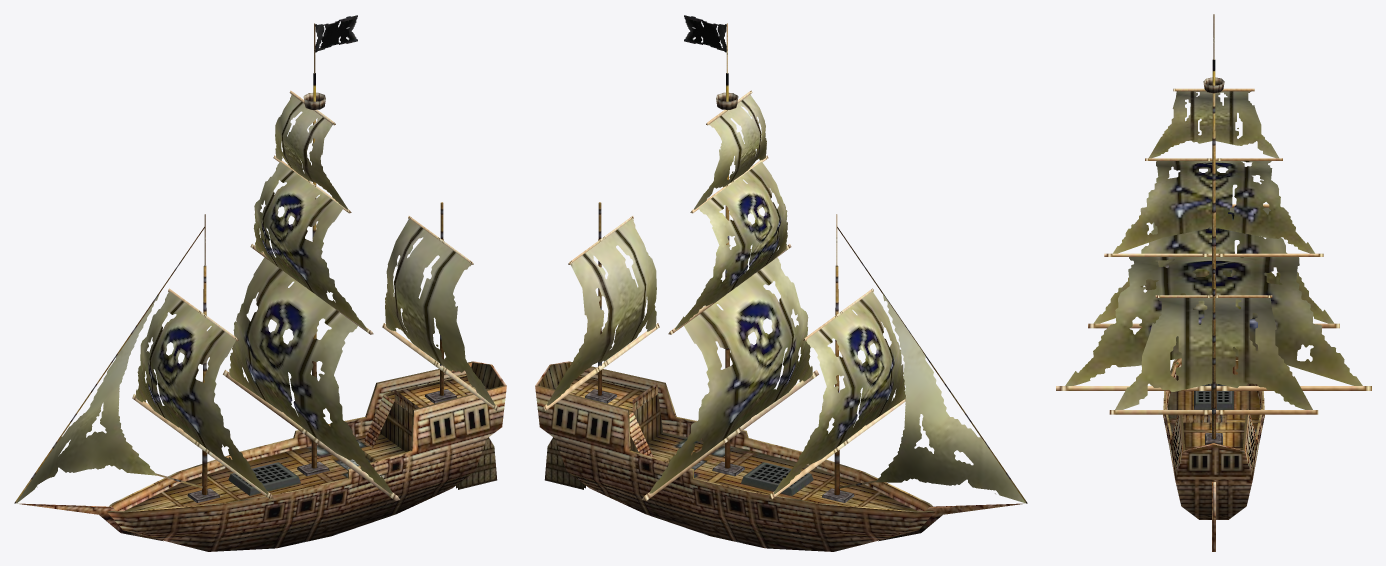
The model's file is boat.obj.
The picture shows the model from 3 angles, left to right: view 1: azimuth 30°, elevation 25°; view 2: azimuth 150°, elevation 25°; view 3: azimuth 270°, elevation 25°; orthographic projection. The views are drawn at different scales.
Visible parts, largest first — view 1: cadnav_com; view 2: cadnav_com; view 3: cadnav_com.
Part boxes in pixels (box(x1,y1,x2,y2)): cadnav_com: box(14, 15, 506, 551); cadnav_com: box(535, 15, 1027, 551); cadnav_com: box(1056, 14, 1371, 551).
Bounding box in the file's own units: 99.56 × 100 × 61.84.
